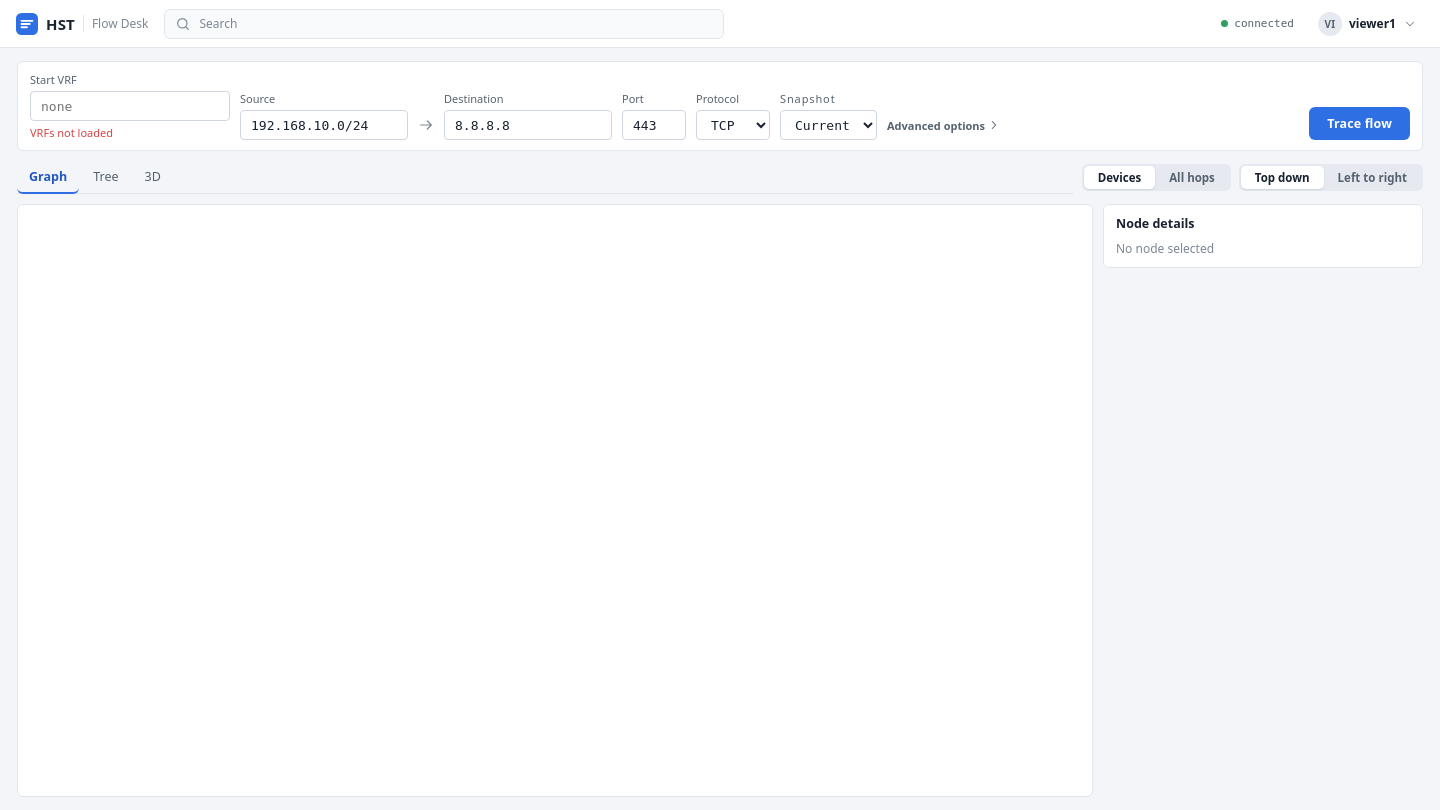
Test: CommandPalette objects › lists the objects the Explore search finds and opens one in Explore
This screenshot has width=1440, height=810.
Click the button "Search". click: [218, 24]
box: left=164, top=8, right=724, bottom=38
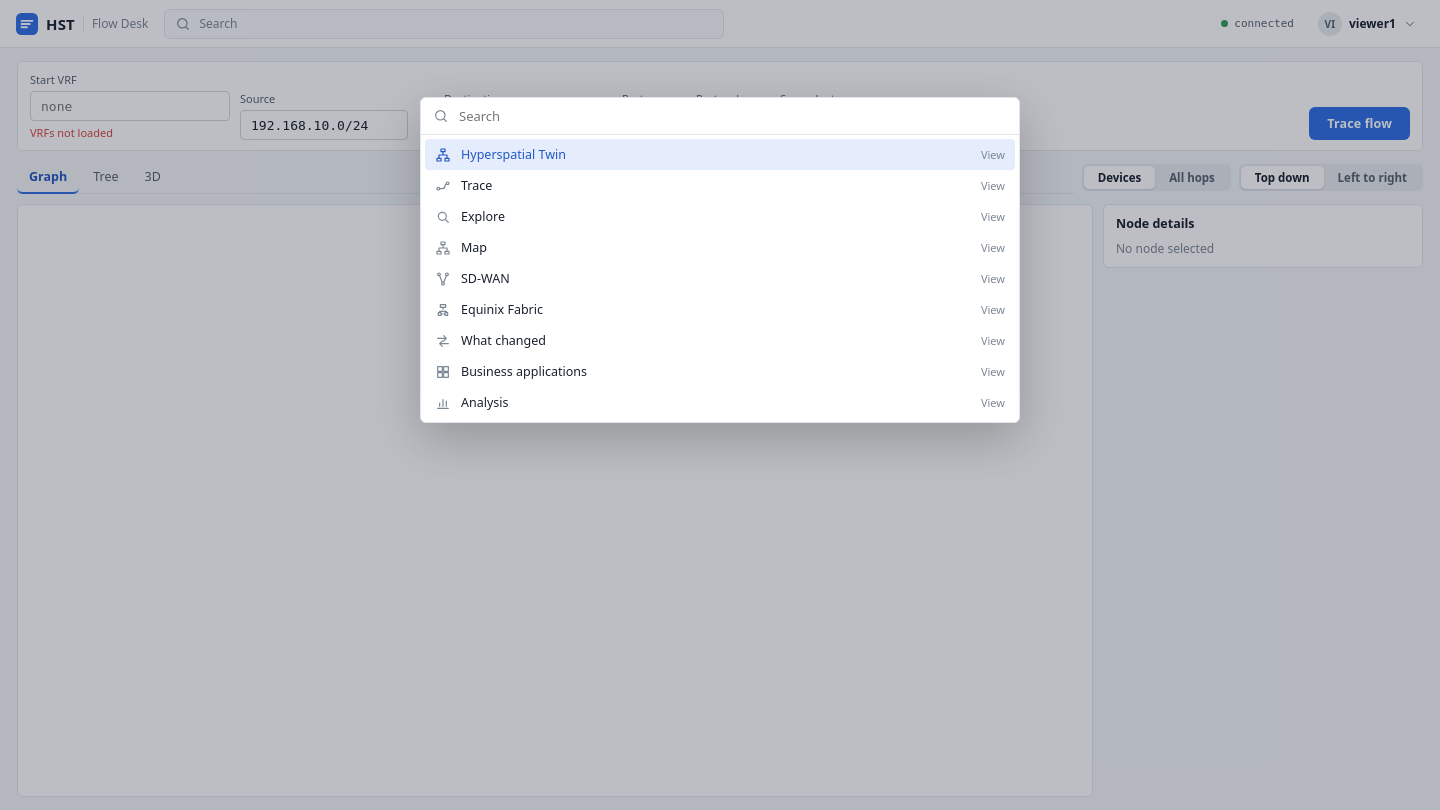
Type "10.1.2" into the dropdown named "Search views and queries". click: [732, 116]
box: left=457, top=106, right=1007, bottom=126
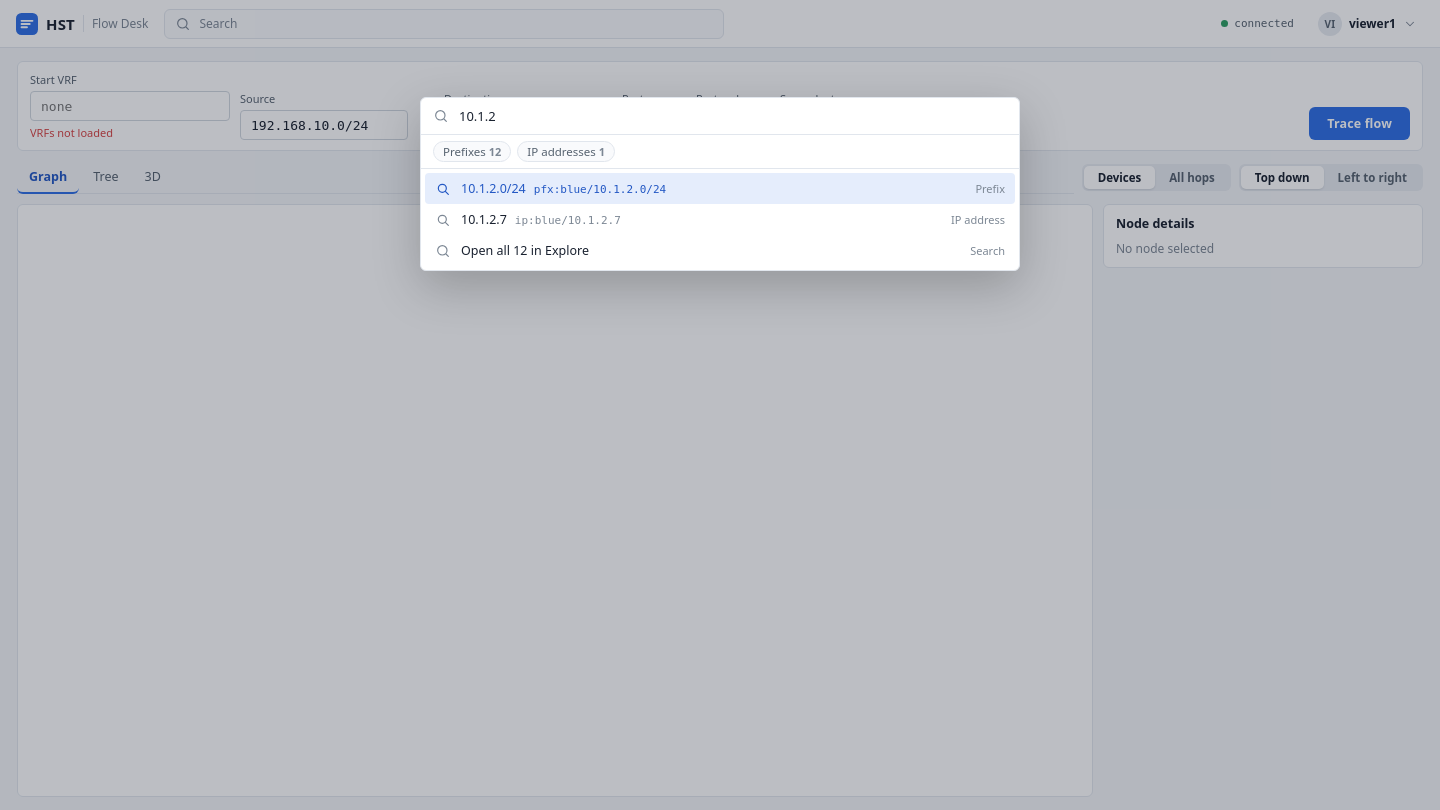
Expected: the option "10.1.2.0/24pfx:blue/10.1.2.0/24 Prefix" is shown
Expected: the option "Open all 12 in Explore Search" is shown, left=435, top=242, right=1005, bottom=259
Click the option "10.1.2.0/24pfx:blue/10.1.2.0/24 Prefix". click: [493, 189]
box: left=425, top=173, right=1015, bottom=204
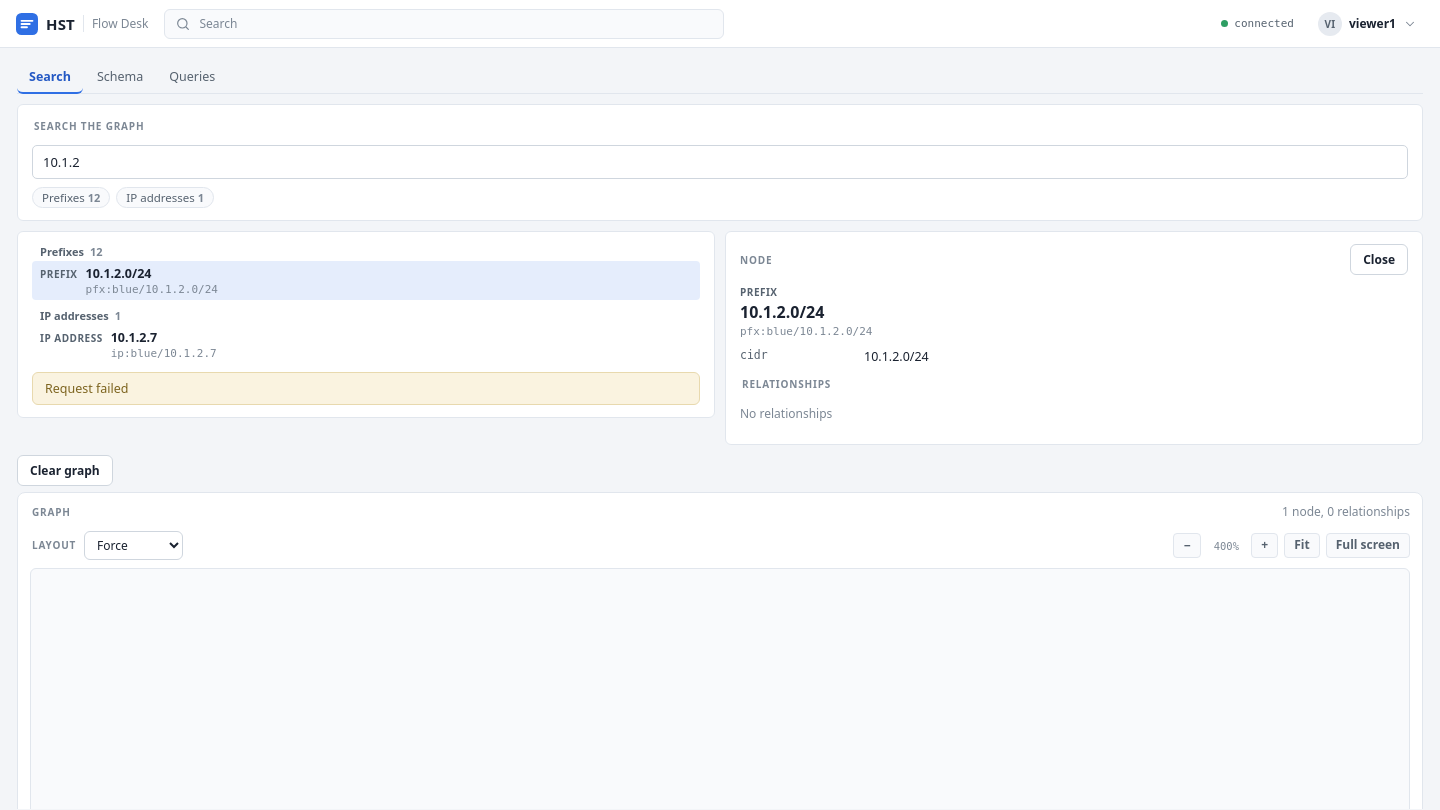
Expected: the element named "Explore pane" is shown
Expected: the search field labelled "Search the graph" holds "10.1.2", left=32, top=145, right=1408, bottom=179
Expected: the heading "10.1.2.0/24" is shown, left=740, top=301, right=824, bottom=323
